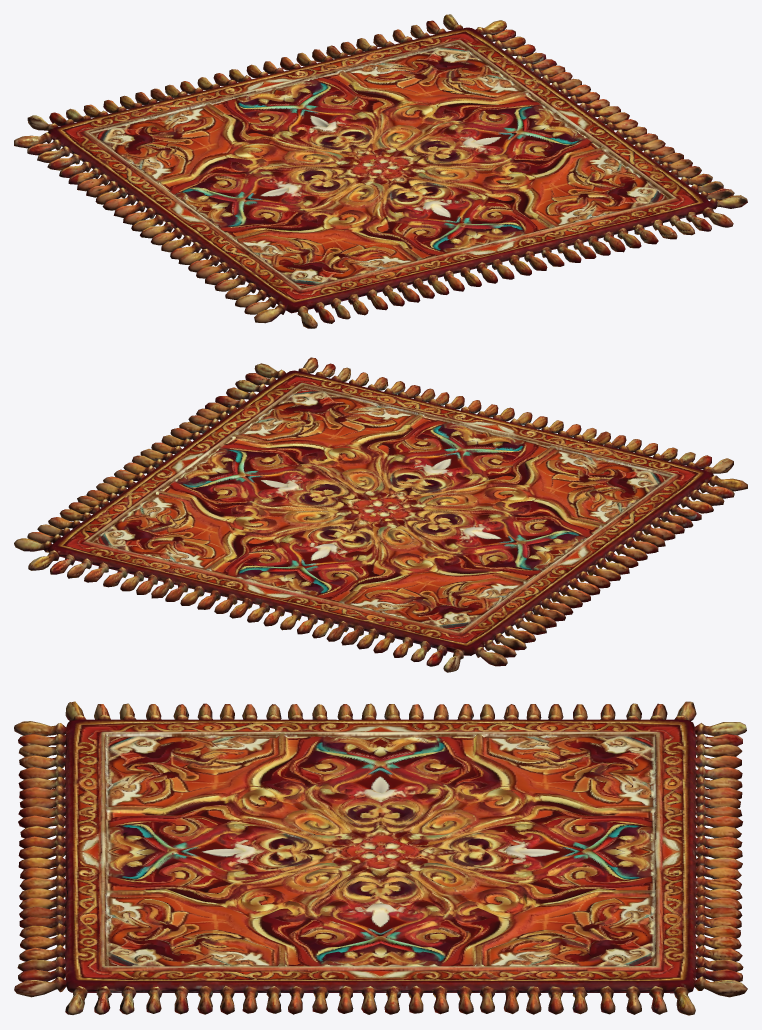
The model's file is Ornate_Medallion_Rug_.fbx.
3 renders of one model, top to bottom at view 1: azimuth 30°, elevation 25°; view 2: azimuth 150°, elevation 25°; view 3: azimuth 270°, elevation 25°, orthographic. The views are drawn at different scales.
Parts seen in each view (by area): view 1: Ornate_Medallion_Rug__LOD0; view 2: Ornate_Medallion_Rug__LOD0; view 3: Ornate_Medallion_Rug__LOD0.
Boxes of the visible parts, x1,y1,x2,y2 form: Ornate_Medallion_Rug__LOD0: [14, 14, 747, 328]; Ornate_Medallion_Rug__LOD0: [14, 357, 747, 672]; Ornate_Medallion_Rug__LOD0: [14, 701, 747, 1015].
Size of what is drawn, in the model's own units: 1.89 by 0.0452 by 1.9.
Materials: 1 (1 with a texture image).
